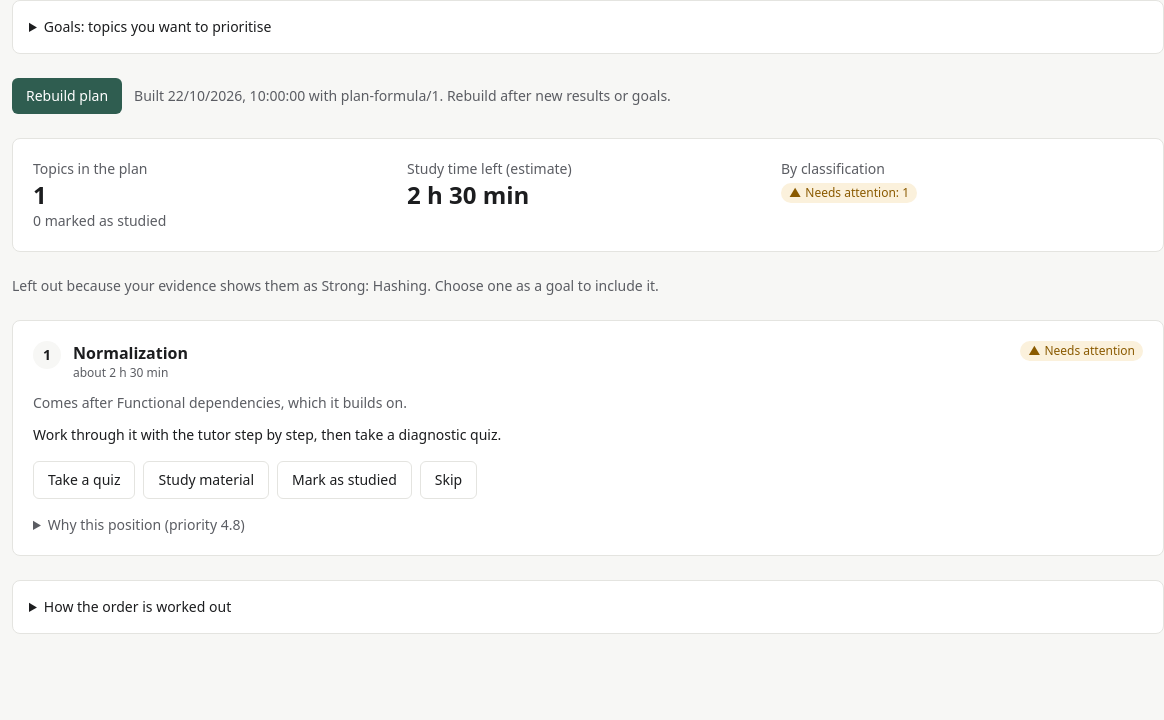
Test: StudyPlanView › explains each position and keeps 'studied' separate from mastery
Expected: the text "Comes after Functional dependencies, which it builds on." is shown, [33, 393, 407, 412]
Expected: the text "Left out because your evidence shows them as Strong: Hashing" is shown, [12, 276, 659, 295]
Click the button "Mark as studied" at [344, 480], box [277, 461, 412, 499]
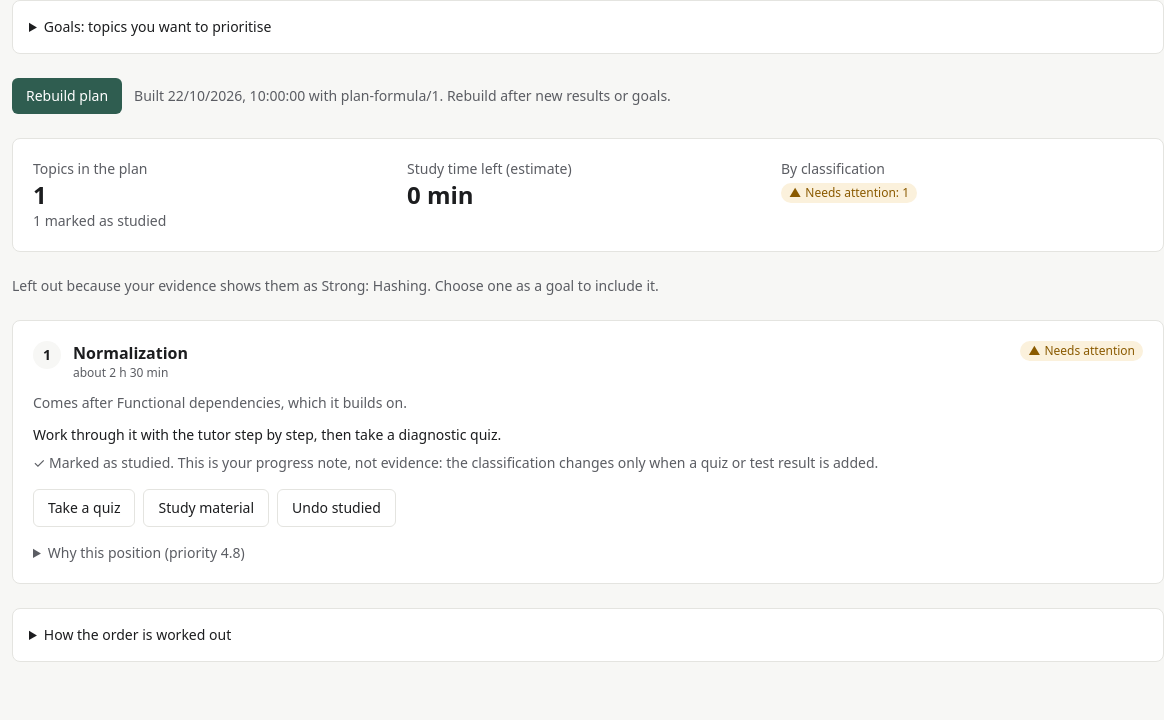
Now the text "not evidence" is shown, box [49, 453, 878, 472]
Now the button "Undo studied" is shown, box [277, 489, 396, 527]
